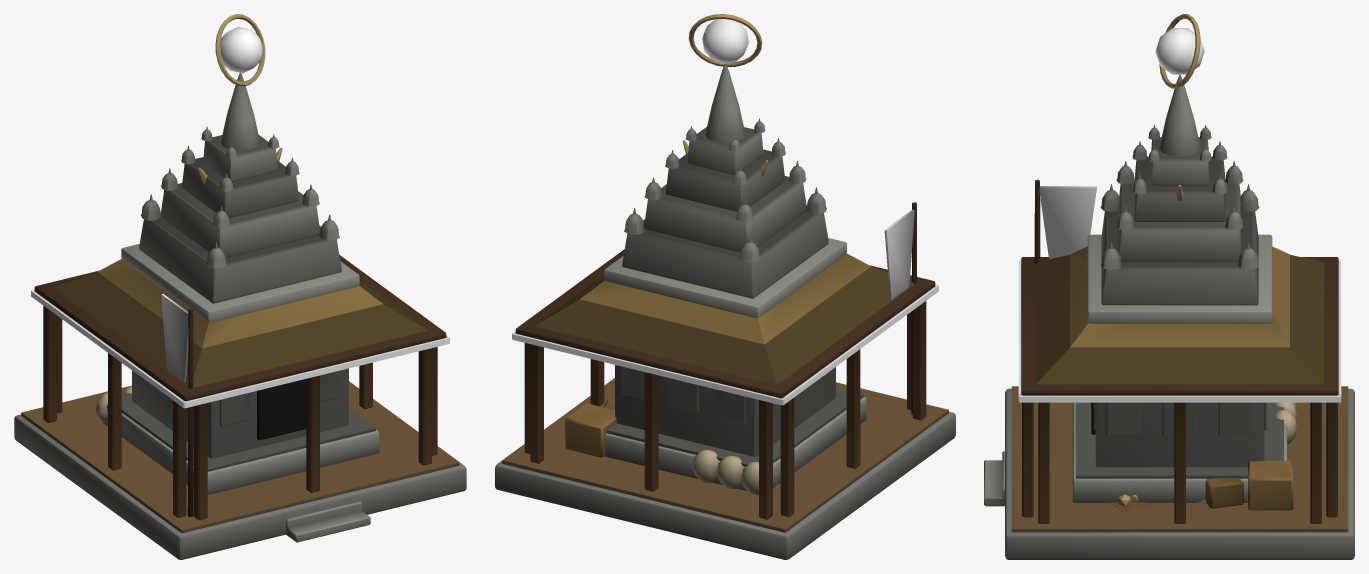
File: props.glb
3 renders of one model, left to right at view 1: azimuth 30°, elevation 25°; view 2: azimuth 150°, elevation 25°; view 3: azimuth 270°, elevation 25°, orthographic. The views are drawn at different scales.
Visible parts, largest first — view 1: outpost, tower; view 2: outpost, tower; view 3: outpost, tower, ore.
Boxes of the visible parts, x1,y1,x2,y2 form: outpost: (14,147,466,559); tower: (102,14,379,494); outpost: (495,140,955,559); tower: (604,14,866,491); outpost: (984,179,1354,559); tower: (1072,14,1287,502); ore: (1110,494,1206,513).
Size of the model in its own units: 5.4 by 8.43 by 5.72.
